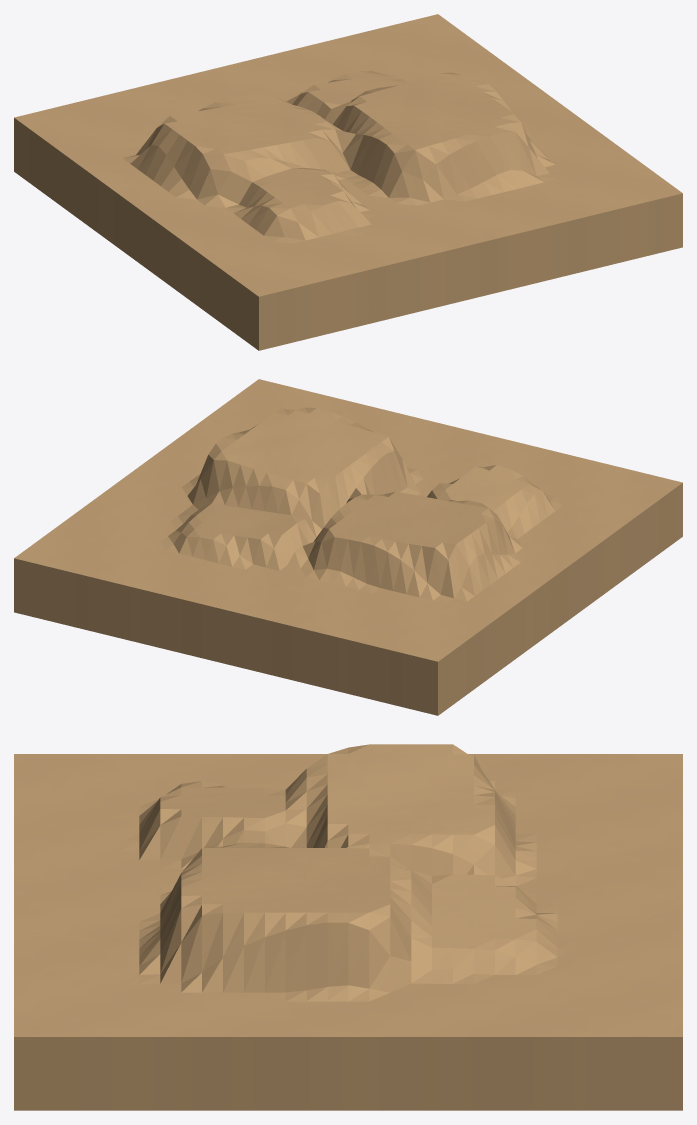
The model's file is bed_rubble.glb.
The picture shows the model from 3 angles, top to bottom: view 1: azimuth 30°, elevation 25°; view 2: azimuth 150°, elevation 25°; view 3: azimuth 270°, elevation 25°; orthographic projection. The views are drawn at different scales.
Visible parts, largest first — view 1: RubbleStudy; view 2: RubbleStudy; view 3: RubbleStudy.
Boxes of the visible parts, x1,y1,x2,y2 form: RubbleStudy: (14,14,682,350); RubbleStudy: (14,379,682,715); RubbleStudy: (14,744,682,1110).
Size of the model in its own units: 8 by 1.8 by 8.
